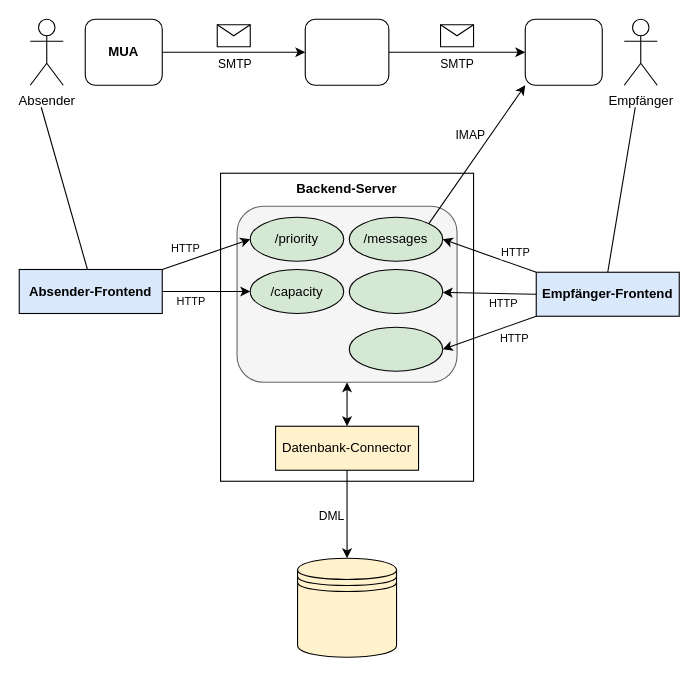
This 699x677 diagram has some shape labels left out. The shapes that lost their labels are listed below. From the top down, each one's centre as x and y in pixels, then its label:
point (346, 51): MTA
point (563, 51): MDA
point (395, 291): /recipient
point (395, 348): /rules
point (346, 607): Datenbank
